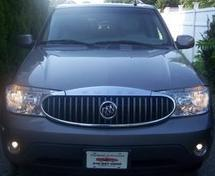front_view: (5, 77, 213, 167)
headlight: (152, 79, 211, 120)
